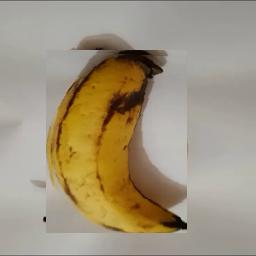Banana Semifresh: (47, 50, 188, 233)
